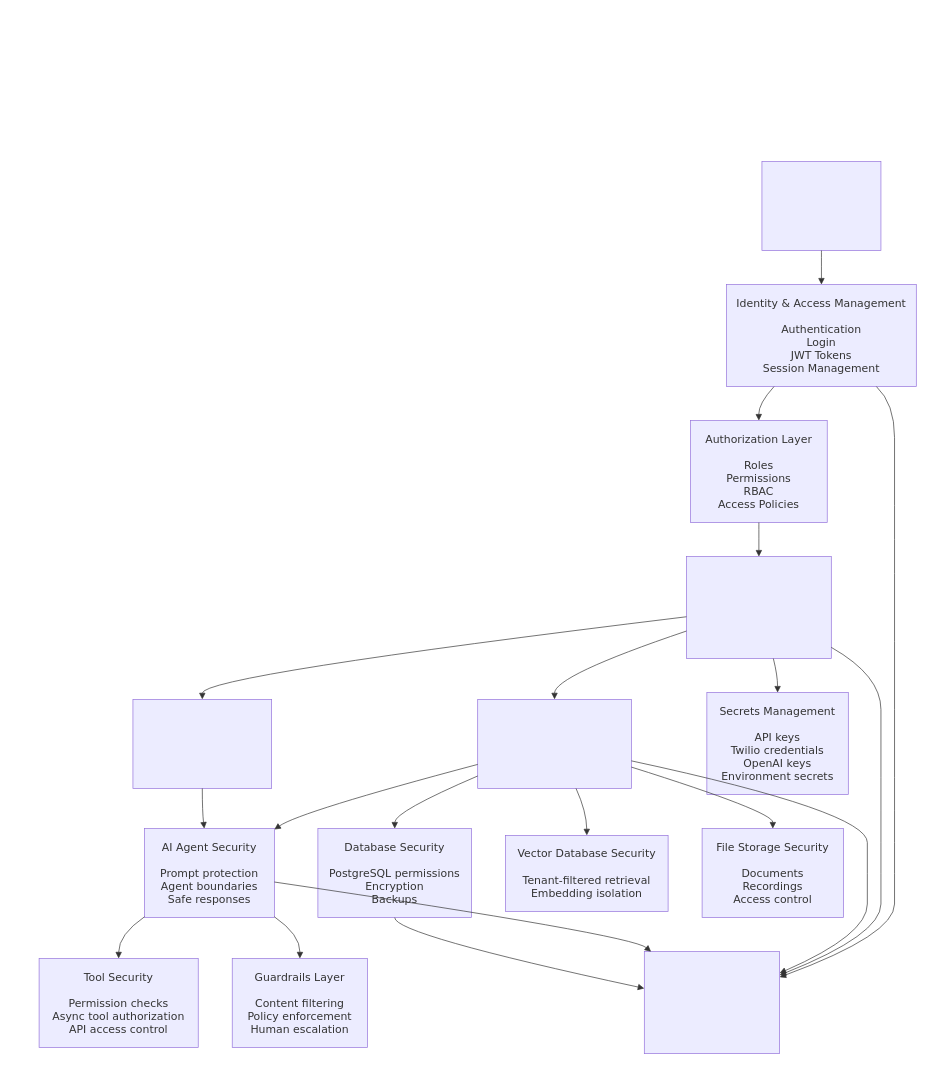
The diagram is 928 pixels wide and 1066 high, and some of its shapes have lost their labels. Here are the shapes that lost their labels. From the top down, the centre of each, then its label:
the point at 821,206: Users Business Admins Agents Customers
the point at 758,607: API Security Gateway HTTPS Rate Limiting API Keys Request Validation
the point at 202,743: Application Security Input validation Secure coding Error handling
the point at 554,743: Tenant Isolation tenant_id enforcement Data separation Row Level Security
the point at 712,1002: Security Monitoring Logs Audit trail Alerts Incident tracking
